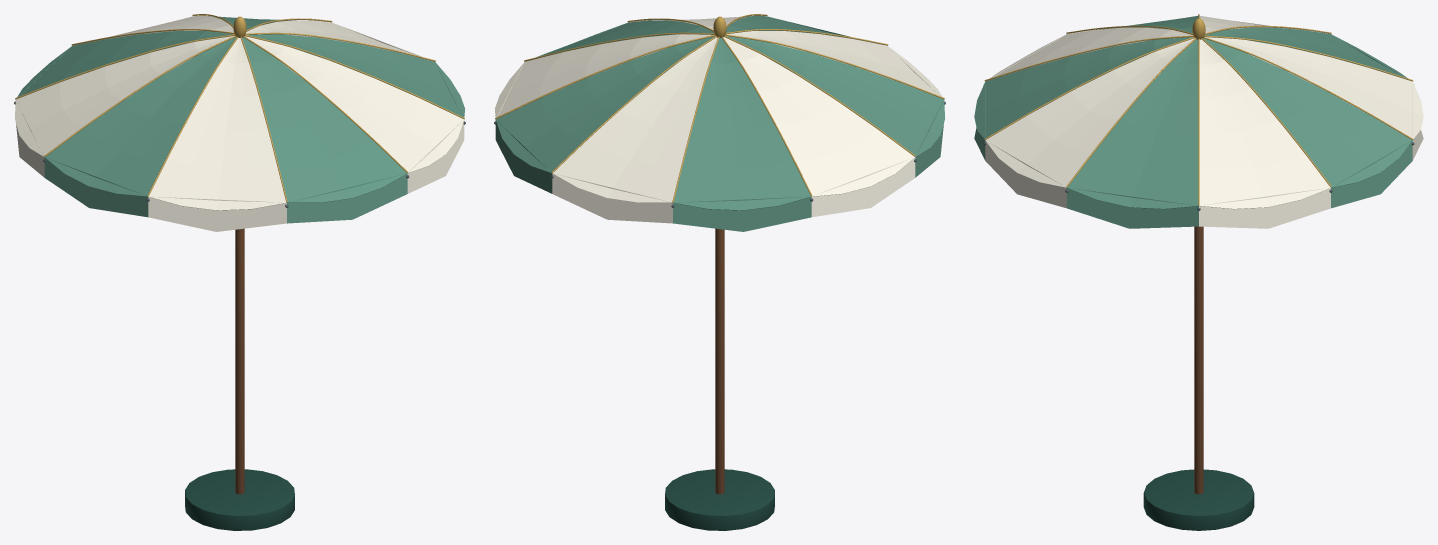
Rendered from parasol.glb.
The picture shows the model from 3 angles, left to right: view 1: azimuth 30°, elevation 25°; view 2: azimuth 150°, elevation 25°; view 3: azimuth 270°, elevation 25°; orthographic projection.
Parts seen in each view (by area): view 1: Sewn_canvas_panel.003, Sewn_canvas_panel.002, Sewn_canvas_panel.004, Sewn_canvas_panel.001, Sewn_canvas_panel.005, Weighted_base, Sewn_canvas_panel, Sewn_canvas_panel.006, Hem_valance.003, Mast, Hem_valance.002, Hem_valance.004 (+4 smaller); view 2: Sewn_canvas_panel.006, Sewn_canvas_panel.007, Sewn_canvas_panel.005, Sewn_canvas_panel.008, Sewn_canvas_panel.004, Weighted_base, Sewn_canvas_panel.009, Sewn_canvas_panel.003, Hem_valance.006, Mast, Hem_valance.007, Hem_valance.005 (+4 smaller); view 3: Sewn_canvas_panel, Sewn_canvas_panel.009, Sewn_canvas_panel.001, Sewn_canvas_panel.008, Sewn_canvas_panel.002, Sewn_canvas_panel.007, Weighted_base, Hem_valance, Hem_valance.009, Sewn_canvas_panel.003, Sewn_canvas_panel.006, Mast (+4 smaller).
Boxes of the visible parts, left/top/right/bottom form: Sewn_canvas_panel.003: left=148, top=38, right=286, bottom=210; Sewn_canvas_panel.002: left=242, top=37, right=407, bottom=202; Sewn_canvas_panel.004: left=45, top=37, right=236, bottom=196; Sewn_canvas_panel.001: left=245, top=36, right=463, bottom=173; Sewn_canvas_panel.005: left=14, top=36, right=233, bottom=156; Weighted_base: left=185, top=469, right=294, bottom=530; Sewn_canvas_panel: left=247, top=34, right=464, bottom=117; Sewn_canvas_panel.006: left=17, top=30, right=232, bottom=96; Hem_valance.003: left=148, top=196, right=286, bottom=231; Mast: left=235, top=228, right=244, bottom=494; Hem_valance.002: left=287, top=173, right=407, bottom=223; Hem_valance.004: left=44, top=157, right=148, bottom=217; Sewn_canvas_panel.006: left=673, top=38, right=811, bottom=210; Sewn_canvas_panel.007: left=552, top=37, right=717, bottom=202; Sewn_canvas_panel.005: left=723, top=37, right=914, bottom=196; Sewn_canvas_panel.008: left=496, top=36, right=714, bottom=173; Sewn_canvas_panel.004: left=726, top=36, right=945, bottom=156; Weighted_base: left=665, top=469, right=774, bottom=530; Sewn_canvas_panel.009: left=495, top=34, right=712, bottom=117; Sewn_canvas_panel.003: left=727, top=30, right=942, bottom=96; Hem_valance.006: left=673, top=196, right=811, bottom=231; Mast: left=715, top=228, right=724, bottom=494; Hem_valance.007: left=552, top=173, right=672, bottom=223; Hem_valance.005: left=811, top=157, right=915, bottom=217; Sewn_canvas_panel: left=1067, top=39, right=1198, bottom=209; Sewn_canvas_panel.009: left=1199, top=39, right=1330, bottom=209; Sewn_canvas_panel.001: left=985, top=38, right=1194, bottom=187; Sewn_canvas_panel.008: left=1203, top=38, right=1412, bottom=187; Sewn_canvas_panel.002: left=974, top=37, right=1192, bottom=138; Sewn_canvas_panel.007: left=1205, top=37, right=1423, bottom=138; Weighted_base: left=1143, top=469, right=1254, bottom=530; Hem_valance: left=1067, top=188, right=1198, bottom=228; Hem_valance.009: left=1199, top=188, right=1330, bottom=228; Sewn_canvas_panel.003: left=990, top=27, right=1192, bottom=79; Sewn_canvas_panel.006: left=1205, top=27, right=1407, bottom=79; Mast: left=1194, top=226, right=1203, bottom=494.
Size of the model in its own units: 2.38 by 2.83 by 2.36.
